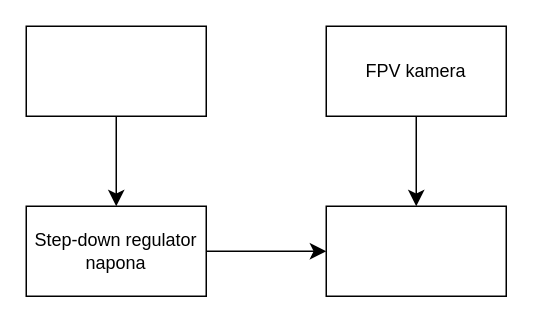
The diagram is 533 pixels wide and 323 high, and some of its shapes have lost their labels. Here are the shapes that lost their labels. From the top down, the centre of each, then its label:
At [115,70]: "S2 LiPo Baterije".
At [415,250]: "Video predajnik".
